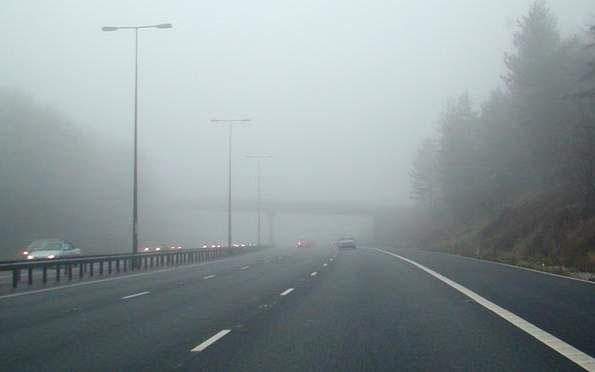car: (27, 240, 81, 268), (19, 236, 66, 263), (336, 235, 358, 250)
